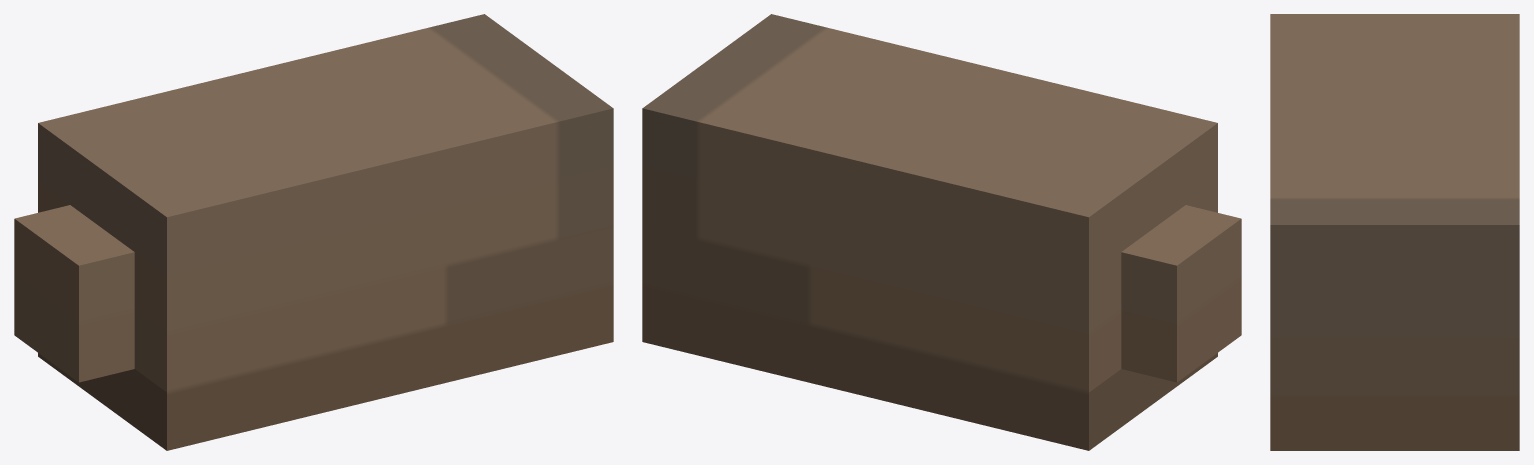
Rendered from Elbow006.fbx.
The picture shows the model from 3 angles, left to right: view 1: azimuth 30°, elevation 25°; view 2: azimuth 150°, elevation 25°; view 3: azimuth 270°, elevation 25°; orthographic projection. The views are drawn at different scales.
Visible parts, largest first — view 1: Elbow006; view 2: Elbow006; view 3: Elbow006.
Part boxes in pixels (bbox=[...]): Elbow006: bbox=[14, 14, 613, 450]; Elbow006: bbox=[642, 14, 1241, 450]; Elbow006: bbox=[1270, 14, 1519, 450].
Size of the model in its own units: 9 by 4 by 4.
